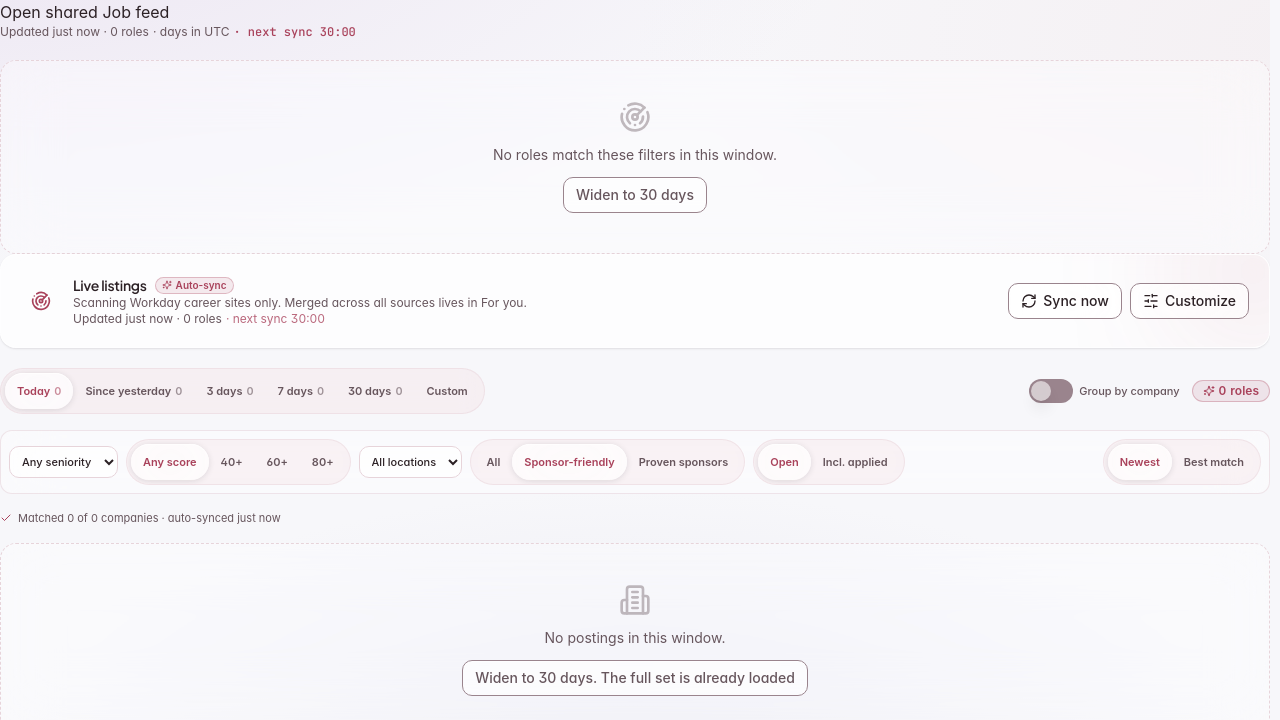
shared job titles › 6. a thin resume (< 4 titles) auto-suggests once and merges deduped
Step 1. Click the button "Customize" → (1189, 301), box [1130, 283, 1249, 319]
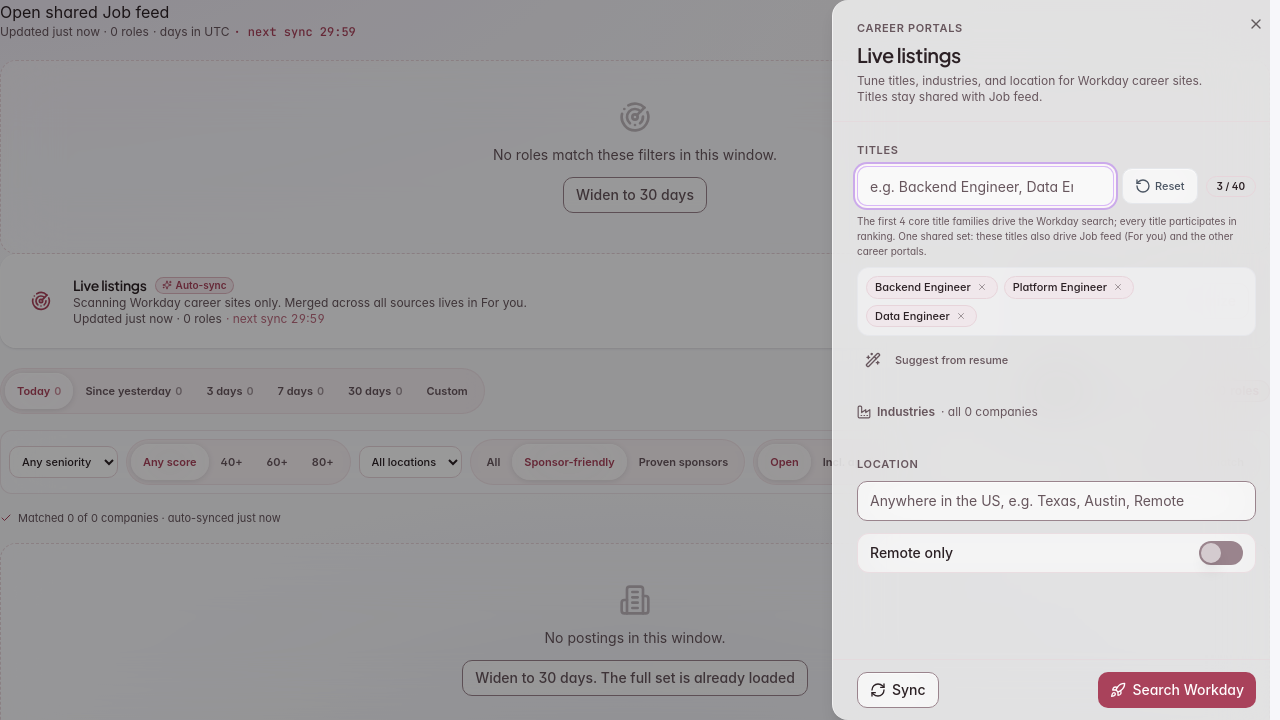
Result: the field with placeholder "e.g. Backend Engineer, Data Engineer..." is shown at [857, 166, 1114, 206]
Result: the button named "Remove Backend Engineer" is shown at [975, 280, 989, 294]
Result: the button named "Remove Platform Engineer" is shown at [1111, 280, 1125, 294]
